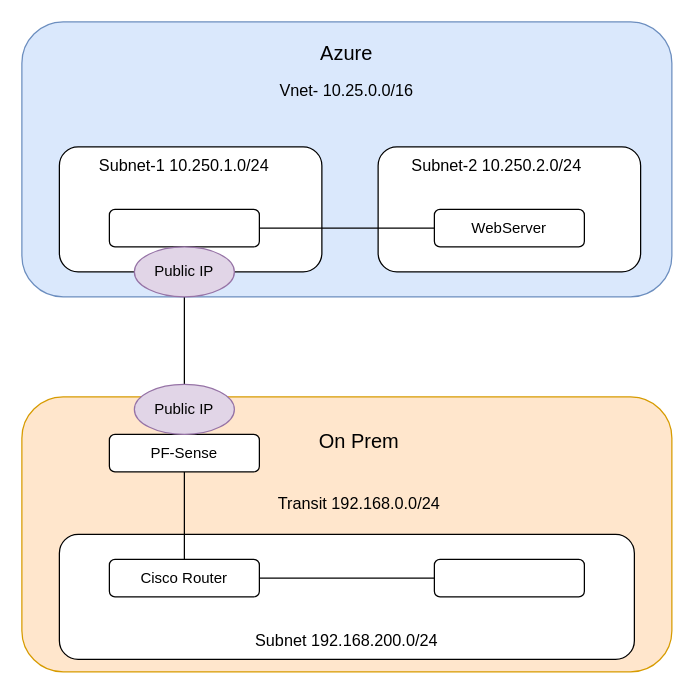
Some shapes in this 694 by 694 pixel diagram are drawn without their labels. Each missing label, with the centre of its shape:
"Client Worstation" belongs at point 508,577.
"StrongSwan" belongs at point 183,227.
